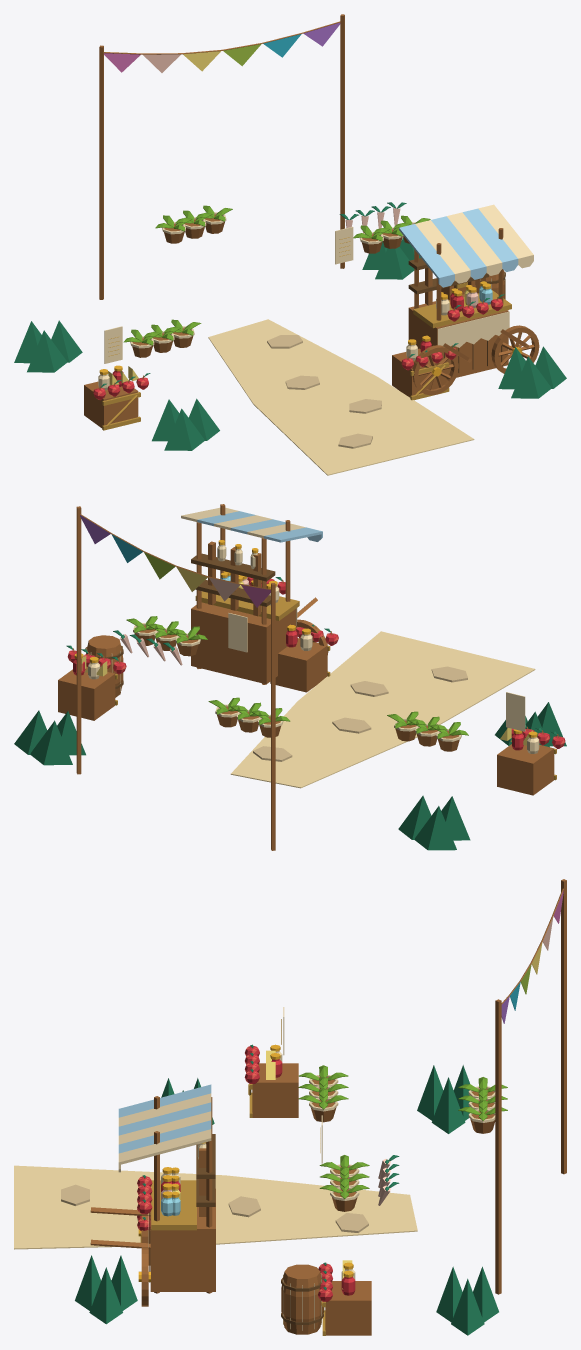
The model's file is decoration.glb.
The picture shows the model from 3 angles, top to bottom: view 1: azimuth 30°, elevation 25°; view 2: azimuth 150°, elevation 25°; view 3: azimuth 270°, elevation 25°; orthographic projection. The views are drawn at different scales.
Visible parts, largest first — view 1: 03_Market_CargoAndBunting, 03_Market_Handcart, 03_Market_Shrubs, 03_R2_ReferenceSpecificPaperDetails; view 2: 03_Market_CargoAndBunting, 03_Market_Handcart, 03_R2_ReferenceSpecificPaperDetails, 03_Market_Shrubs; view 3: 03_Market_CargoAndBunting, 03_Market_Handcart, 03_Market_Shrubs, 03_R2_ReferenceSpecificPaperDetails.
Part boxes in pixels (x1=…): 03_Market_CargoAndBunting: x1=84, y1=14, x2=505, y2=475; 03_Market_Handcart: x1=399, y1=204, x2=539, y2=395; 03_Market_Shrubs: x1=14, y1=237, x2=566, y2=450; 03_R2_ReferenceSpecificPaperDetails: x1=104, y1=202, x2=430, y2=384; 03_Market_CargoAndBunting: x1=58, y1=506, x2=565, y2=850; 03_Market_Handcart: x1=181, y1=504, x2=328, y2=684; 03_R2_ReferenceSpecificPaperDetails: x1=81, y1=613, x2=532, y2=751; 03_Market_Shrubs: x1=14, y1=702, x2=566, y2=850; 03_Market_CargoAndBunting: x1=14, y1=879, x2=566, y2=1335; 03_Market_Handcart: x1=90, y1=1084, x2=215, y2=1306; 03_Market_Shrubs: x1=75, y1=1065, x2=498, y2=1335; 03_R2_ReferenceSpecificPaperDetails: x1=266, y1=1007, x2=507, y2=1289.
Size of the model in its own units: 1.54 by 0.84 by 1.44.
